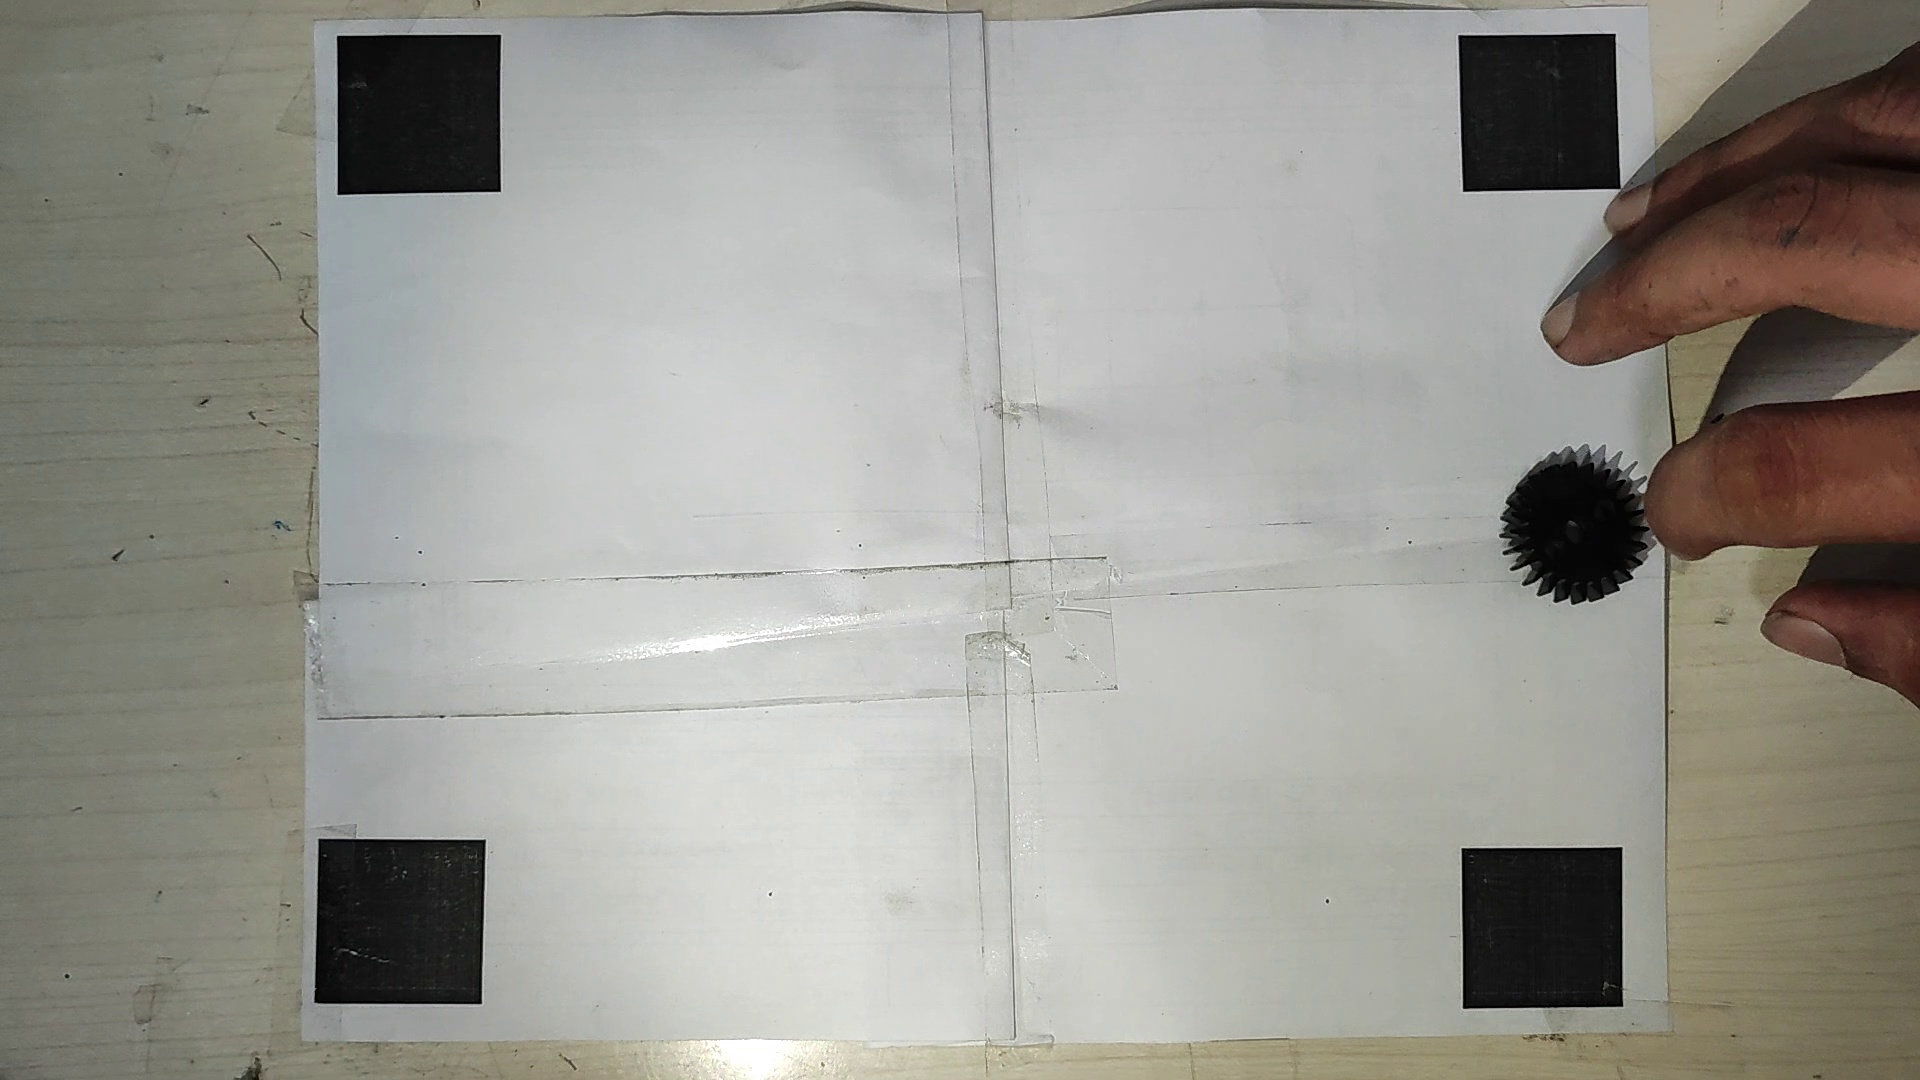Gear: (1495, 455, 1645, 605)
